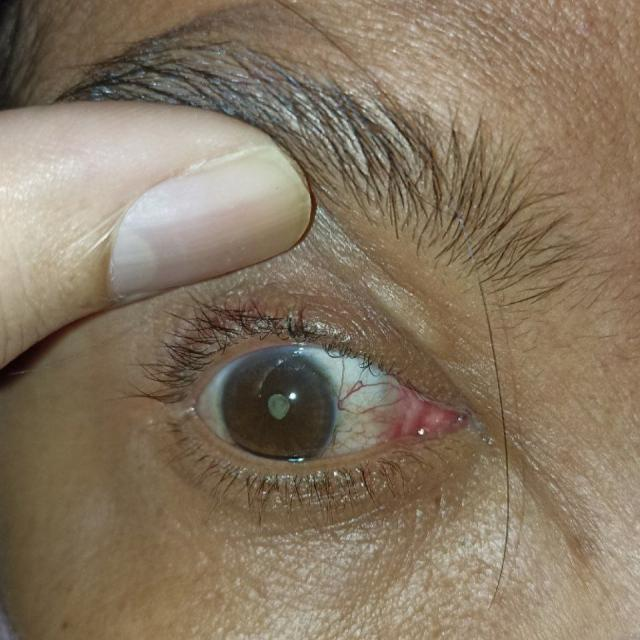Cataract: (221, 356, 341, 472)
